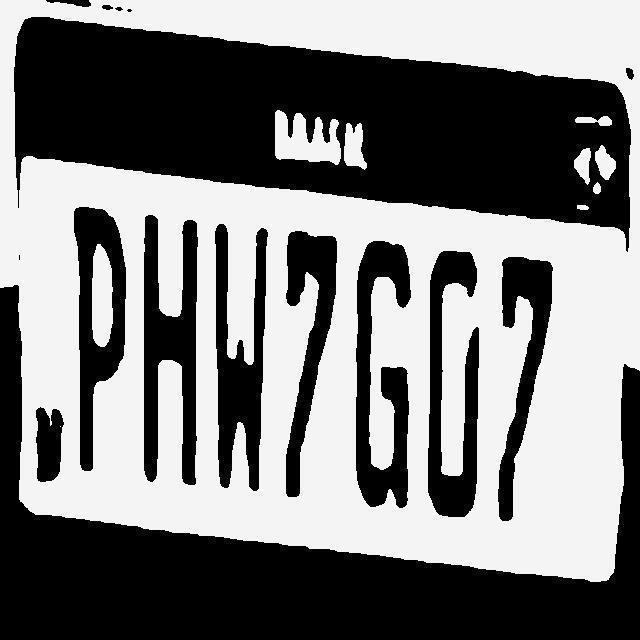0: (423, 244, 484, 521)
7: (488, 259, 570, 523), (276, 232, 340, 499)
g: (348, 239, 417, 516)
h: (132, 216, 208, 484)
p: (71, 202, 131, 480)
w: (203, 228, 264, 492)
